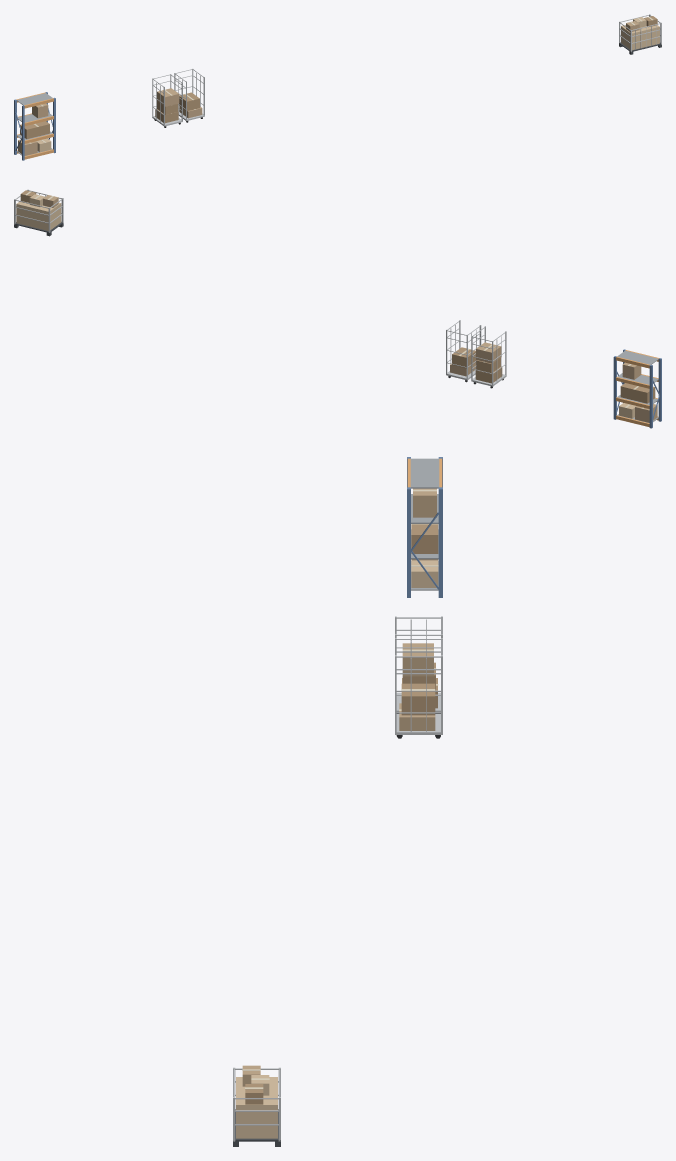
The model's file is einrichtung_gang_buehne.glb.
3 renders of one model, top to bottom at view 1: azimuth 30°, elevation 25°; view 2: azimuth 150°, elevation 25°; view 3: azimuth 270°, elevation 25°, orthographic. The views are drawn at different scales.
Visible parts, largest first — view 1: einrichtung_gang_buehne; view 2: einrichtung_gang_buehne; view 3: einrichtung_gang_buehne.
Part boxes in pixels (x1,y1,x2,y2): einrichtung_gang_buehne: (14, 14, 661, 160); einrichtung_gang_buehne: (14, 189, 661, 428); einrichtung_gang_buehne: (233, 457, 442, 1146).
Bounding box in the file's own units: 22.94 × 2 × 3.5.
